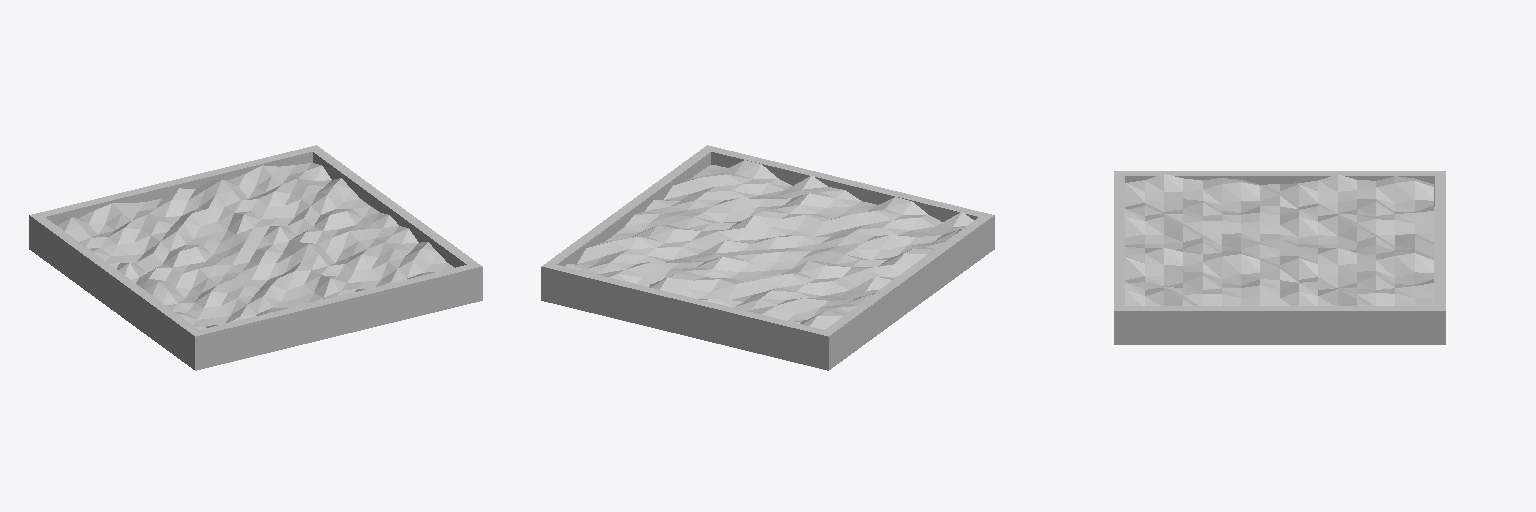
The model's file is MapAR2.obj.
3 renders of one model, left to right at view 1: azimuth 30°, elevation 25°; view 2: azimuth 150°, elevation 25°; view 3: azimuth 270°, elevation 25°, orthographic.
Visible parts, largest first — view 1: Cube.001_Cube.002; view 2: Cube.001_Cube.002; view 3: Cube.001_Cube.002.
Part boxes in pixels (left/top/right/bottom): Cube.001_Cube.002: left=29, top=145, right=482, bottom=370; Cube.001_Cube.002: left=541, top=145, right=994, bottom=370; Cube.001_Cube.002: left=1114, top=171, right=1445, bottom=344.
Bounding box in the file's own units: 6.42 × 0.8167 × 6.42.